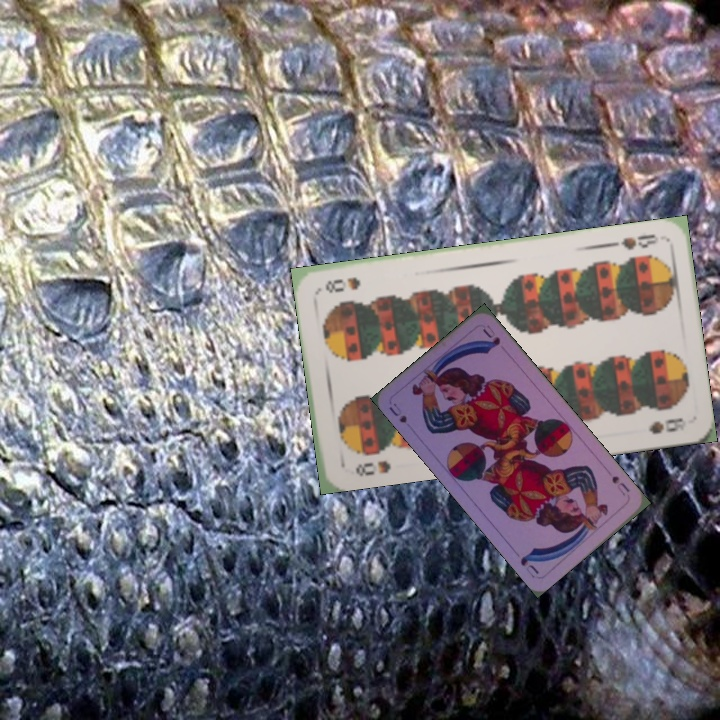S8: (604, 230, 662, 253), (351, 456, 394, 479)
SU: (384, 399, 410, 426), (608, 472, 632, 499)
